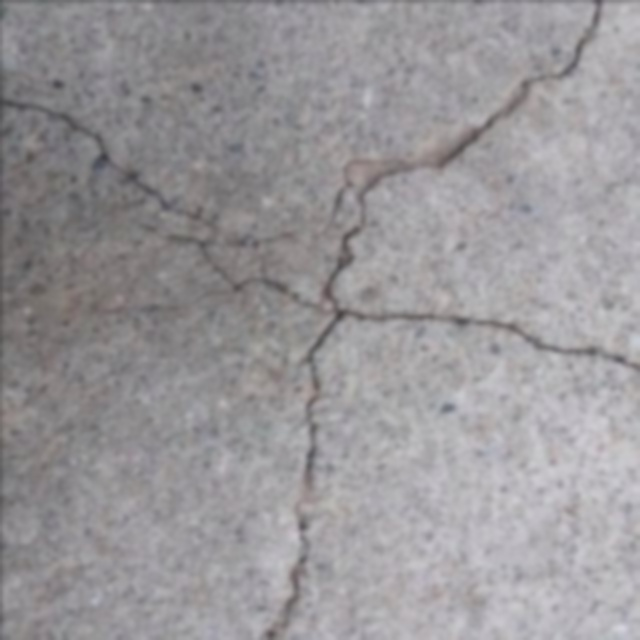SurfaceCrack: (222, 0, 594, 640)
